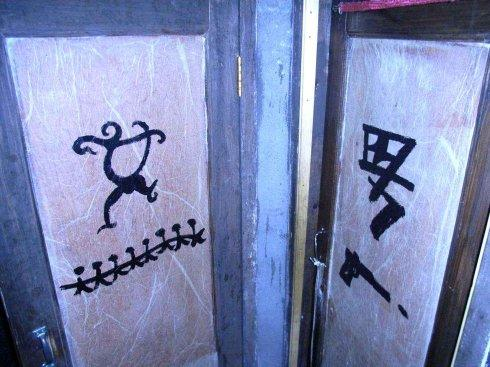naxi: (63, 116, 170, 234), (355, 114, 418, 243)
